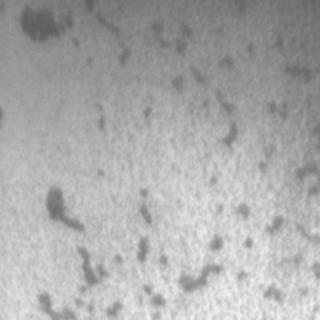patches: (12, 2, 62, 42)
pitted_surface: (34, 39, 304, 314)
